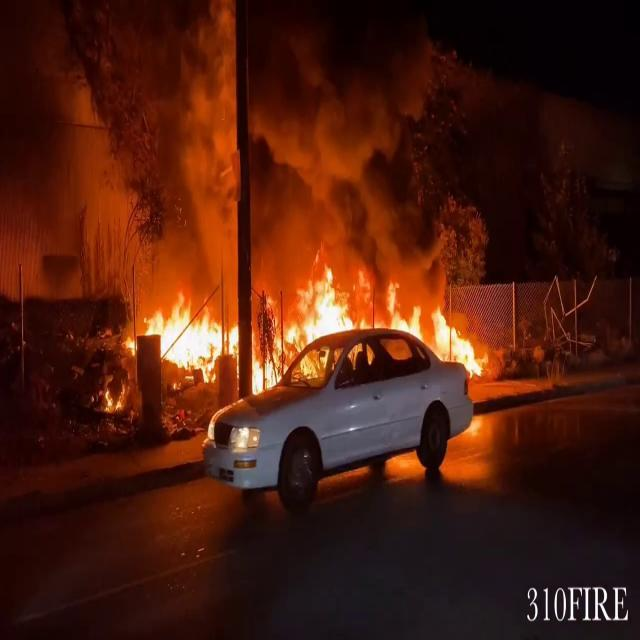Fire: (134, 263, 491, 405)
Smoke: (1, 0, 433, 278)
